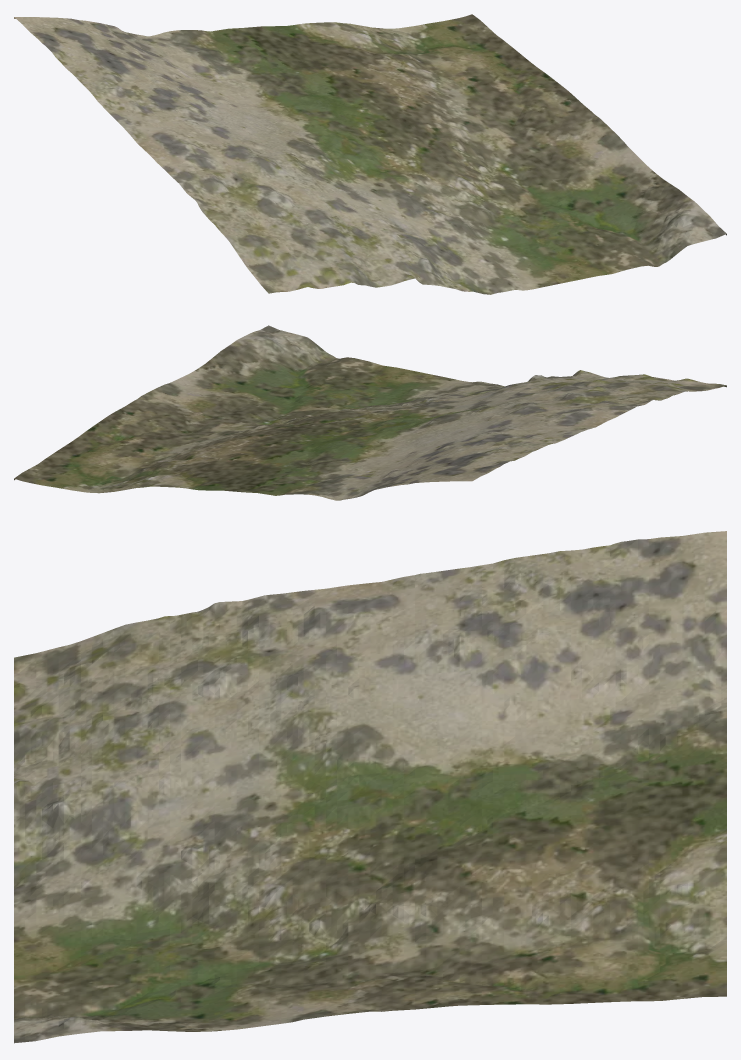
3 views of the same model, one above another, from view 1: azimuth 30°, elevation 25°; view 2: azimuth 150°, elevation 25°; view 3: azimuth 270°, elevation 25° (orthographic). The views are drawn at different scales.
Bounding box in the file's own units: 250 × 83.66 × 241.
Materials: 1 (1 with a texture image).
